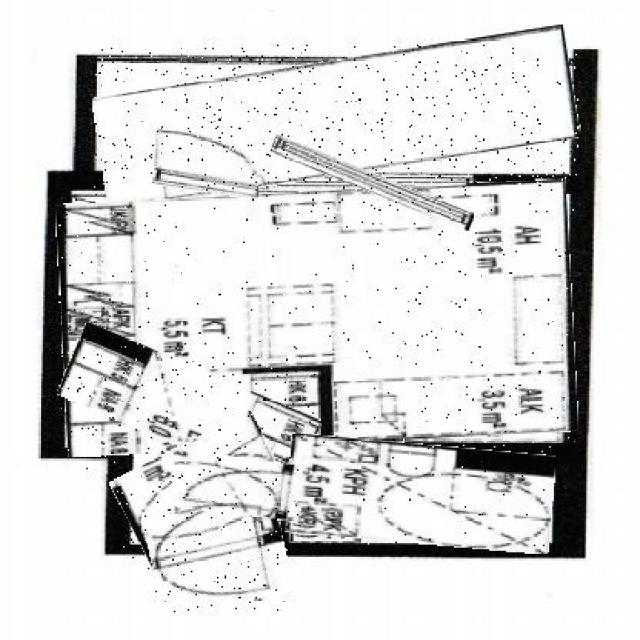door: (148, 492, 289, 612), (171, 455, 298, 517), (156, 123, 252, 172)
window: (268, 154, 477, 212), (152, 171, 258, 195)
zone: (58, 184, 576, 450), (96, 43, 578, 194), (60, 345, 318, 469), (286, 440, 554, 548), (117, 426, 291, 562)
